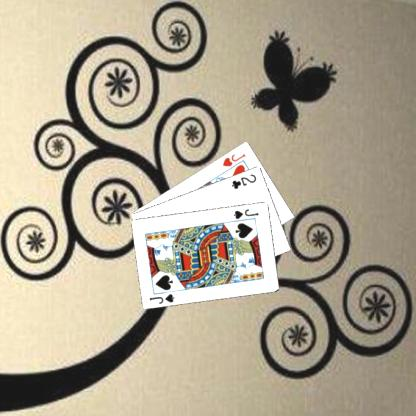2C: (229, 171, 258, 190)
JH: (220, 150, 247, 167)
JS: (230, 206, 260, 220), (147, 291, 176, 305)
